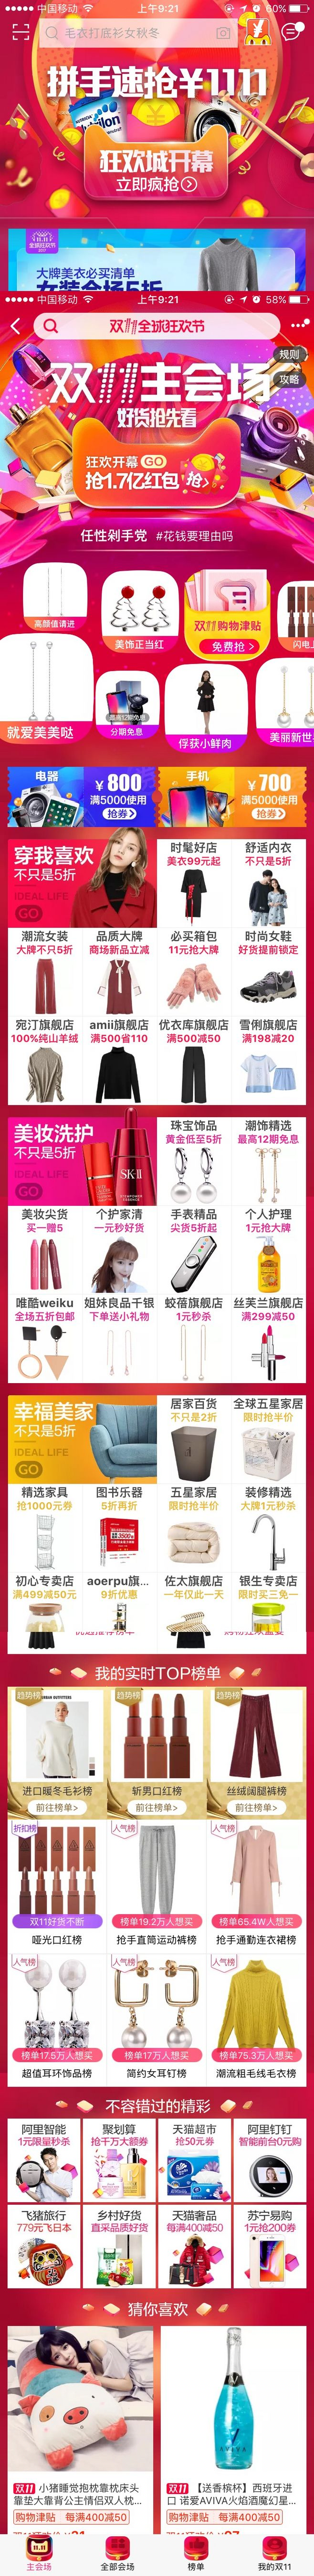floors: (7, 1666, 314, 2090), (5, 1115, 314, 1387), (5, 838, 314, 1107), (7, 1393, 314, 1656), (7, 2297, 307, 2535), (0, 562, 314, 756), (7, 2096, 309, 2292), (0, 762, 314, 830)
toutu: (0, 49, 314, 560)
